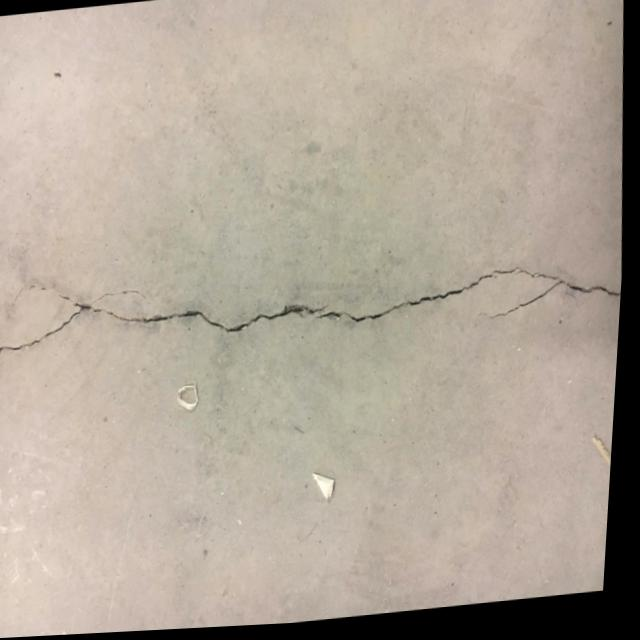Crack: (231, 266, 575, 342), (87, 288, 243, 357), (0, 302, 98, 388), (482, 282, 626, 333), (26, 275, 91, 316), (87, 285, 155, 309)
